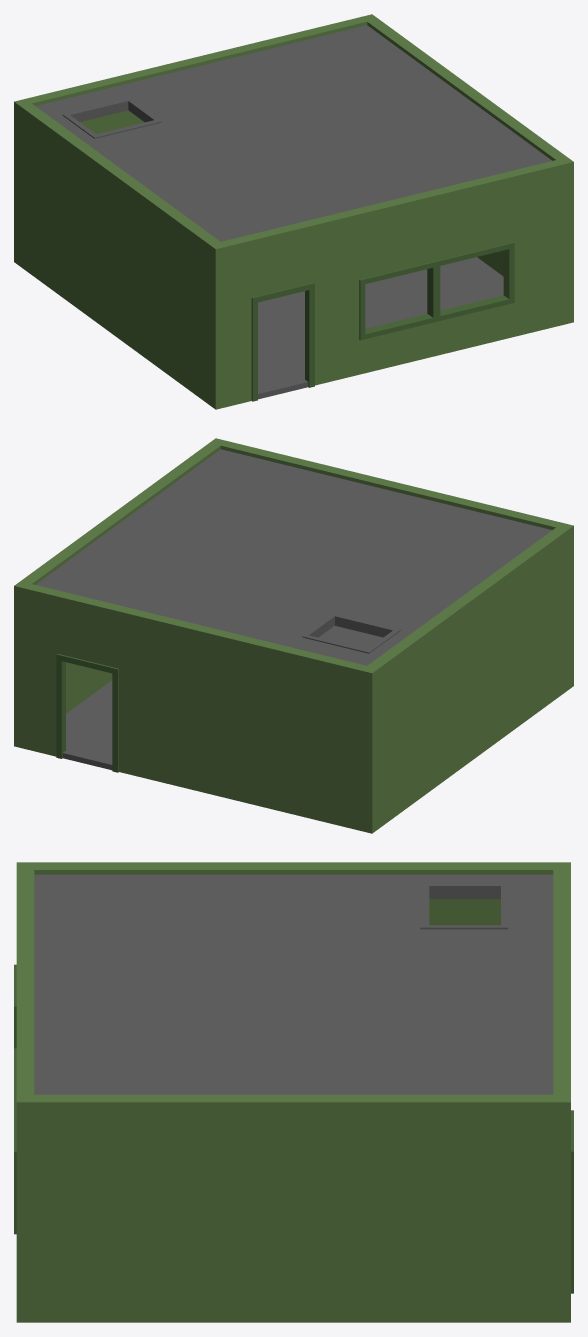
Rendered from SmallBuilding1.fbx.
3 renders of one model, top to bottom at view 1: azimuth 30°, elevation 25°; view 2: azimuth 150°, elevation 25°; view 3: azimuth 270°, elevation 25°, orthographic. The views are drawn at different scales.
Visible parts, largest first — view 1: SmallBuilding1.000_LOD0; view 2: SmallBuilding1.000_LOD0; view 3: SmallBuilding1.000_LOD0.
Part boxes in pixels (x1,y1,x2,y2): SmallBuilding1.000_LOD0: [14, 14, 573, 409]; SmallBuilding1.000_LOD0: [14, 438, 573, 833]; SmallBuilding1.000_LOD0: [14, 862, 573, 1322].
Size of what is drawn, in the model's own units: 1754 by 751 by 1729.
Materials: 1 (1 with a texture image).
